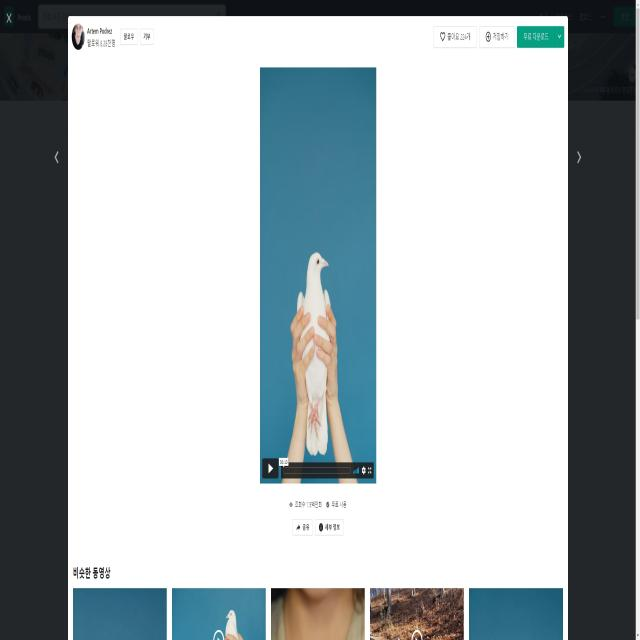control-bar: (259, 453, 375, 480)
menu-bar: (434, 24, 566, 54), (115, 20, 156, 50)
